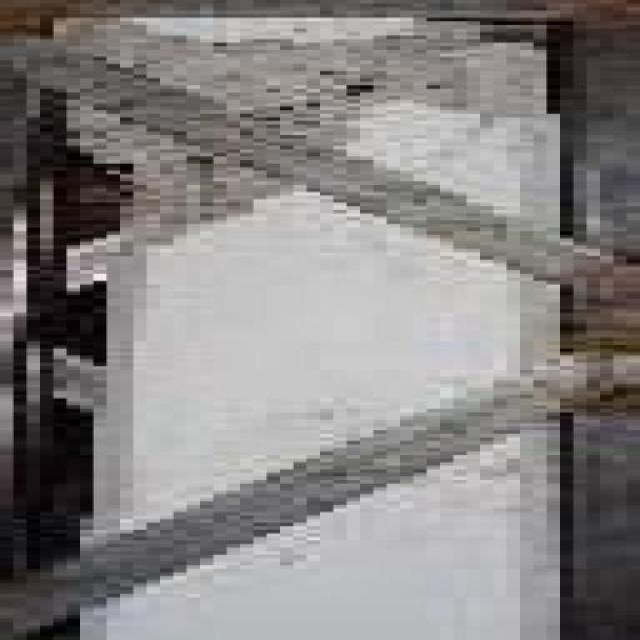D10: (60, 18, 544, 136), (65, 95, 285, 228)
